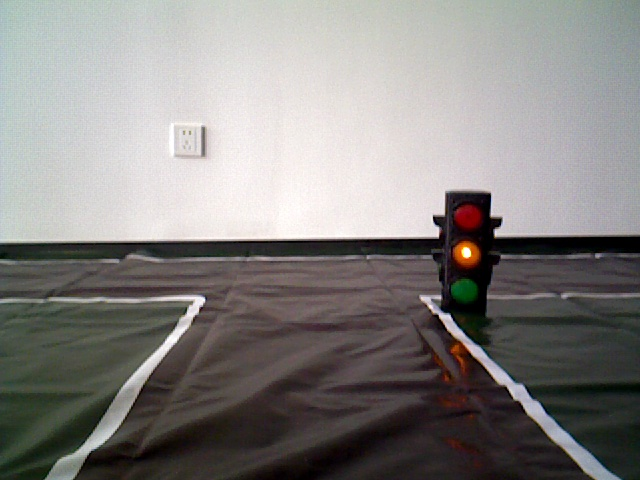yellow: (444, 195, 489, 313)
